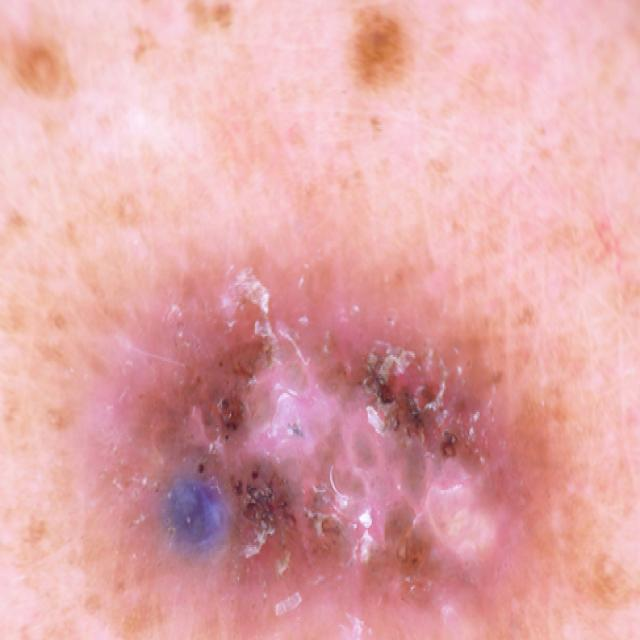Dermatofibroma: (72, 188, 556, 640)
